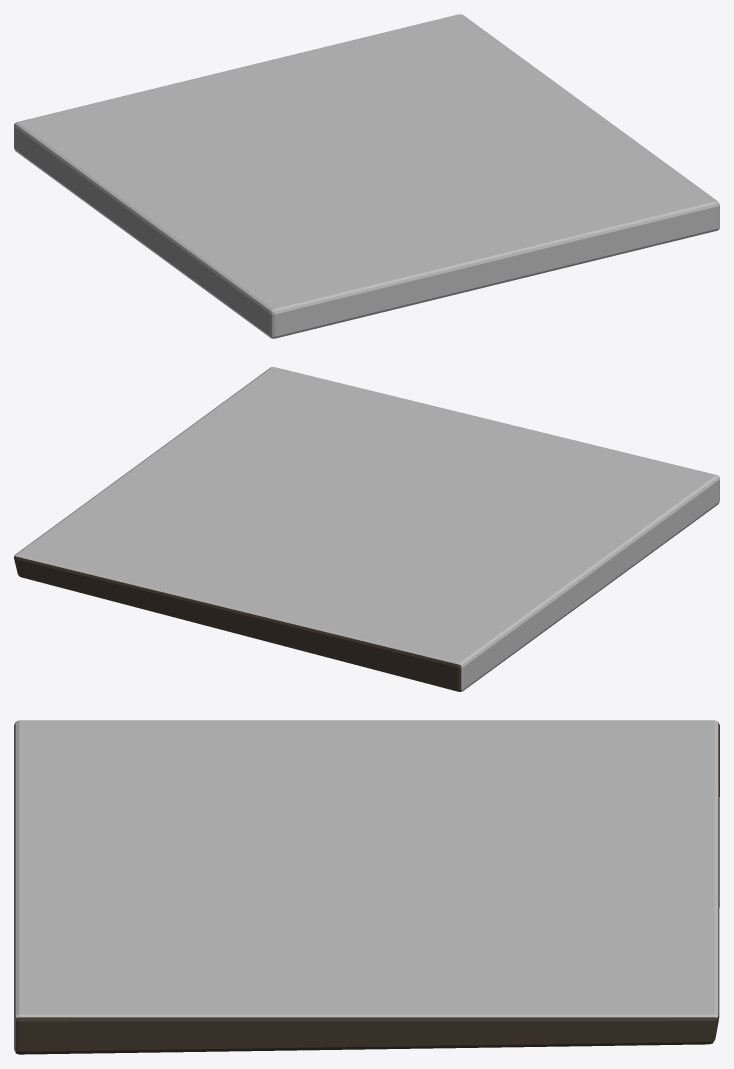
Rendered from floor_1x1_damaged.glb.
3 renders of one model, top to bottom at view 1: azimuth 30°, elevation 25°; view 2: azimuth 150°, elevation 25°; view 3: azimuth 270°, elevation 25°, orthographic. The views are drawn at different scales.
Parts seen in each view (by area): view 1: Visual_floor_1x1_Plate; view 2: Visual_floor_1x1_Plate; view 3: Visual_floor_1x1_Plate.
Boxes of the visible parts, x1,y1,x2,y2 form: Visual_floor_1x1_Plate: [14, 14, 719, 338]; Visual_floor_1x1_Plate: [14, 367, 719, 691]; Visual_floor_1x1_Plate: [14, 720, 719, 1054].
Size of the model in its own units: 4 by 0.25 by 4.
